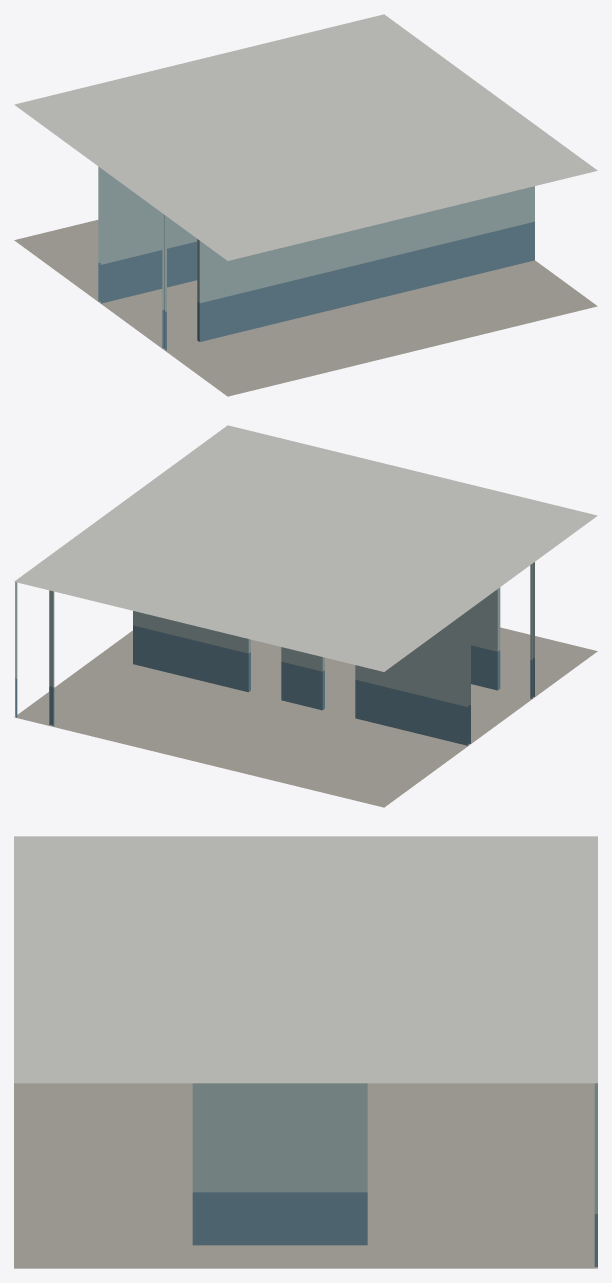
File: chunk_3_1.glb
3 renders of one model, top to bottom at view 1: azimuth 30°, elevation 25°; view 2: azimuth 150°, elevation 25°; view 3: azimuth 270°, elevation 25°, orthographic. The views are drawn at different scales.
Visible parts, largest first — view 1: chunk_3_1; view 2: chunk_3_1; view 3: chunk_3_1.
Part boxes in pixels (x1,y1,x2,y2): chunk_3_1: [14, 14, 597, 396]; chunk_3_1: [14, 425, 597, 807]; chunk_3_1: [14, 836, 597, 1268].
Bounding box in the file's own units: 12 × 4.2 × 12.
